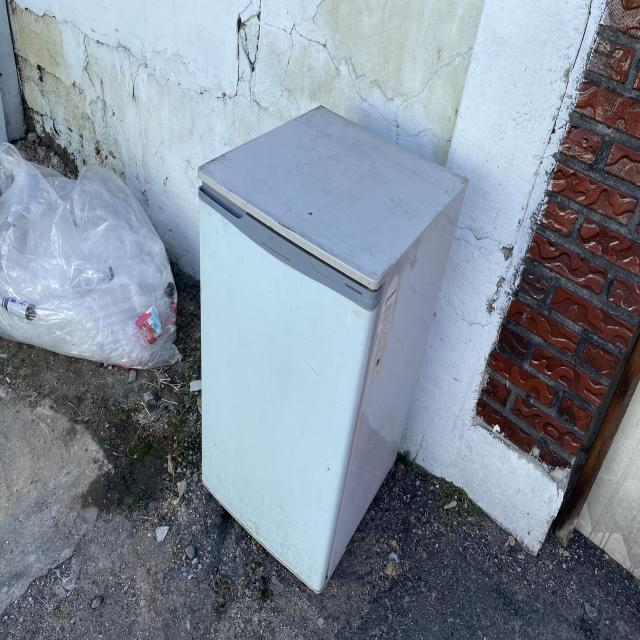refrigerator: (196, 106, 468, 596)
